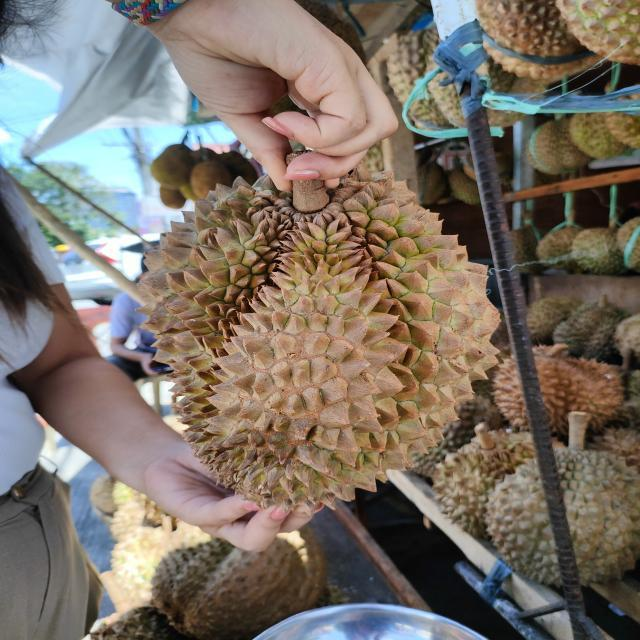mature: (135, 183, 502, 515)
